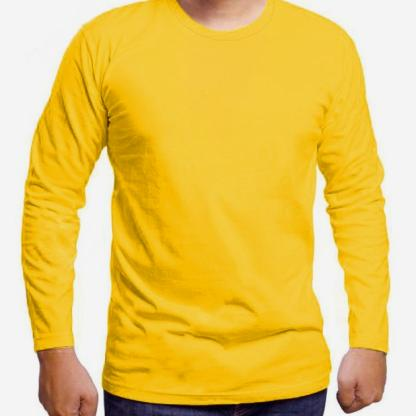dress: (19, 0, 393, 413)
